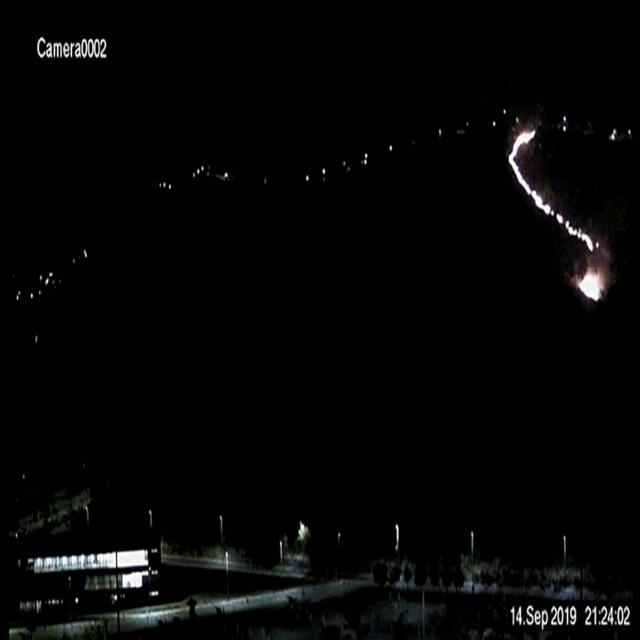Fire: (500, 126, 600, 250), (572, 254, 613, 306)
